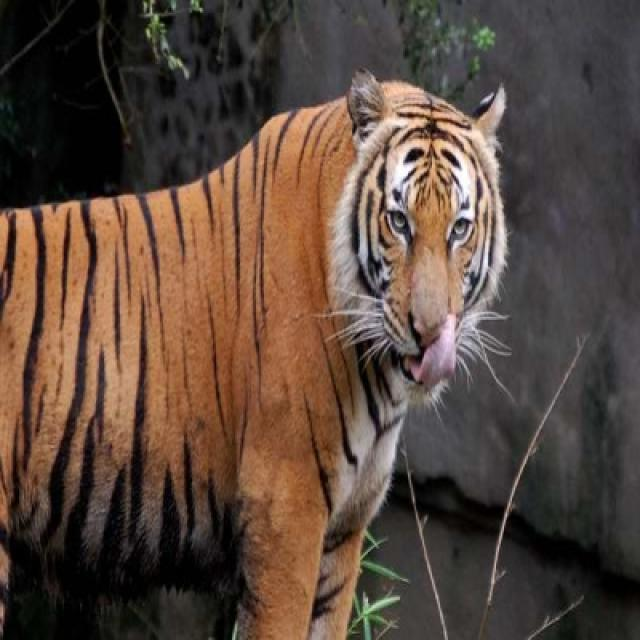Tiger: (3, 70, 518, 638)
